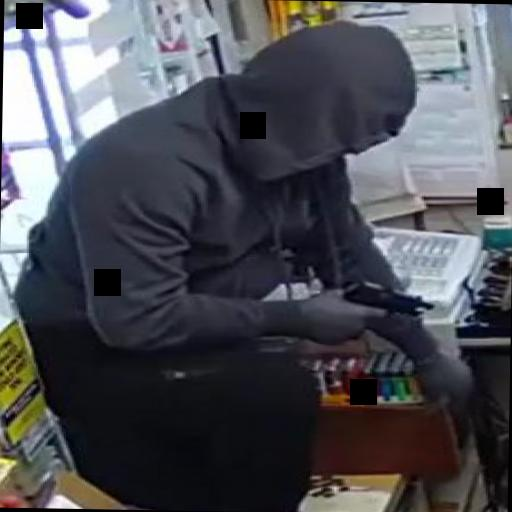Handgun: (330, 276, 434, 340)
